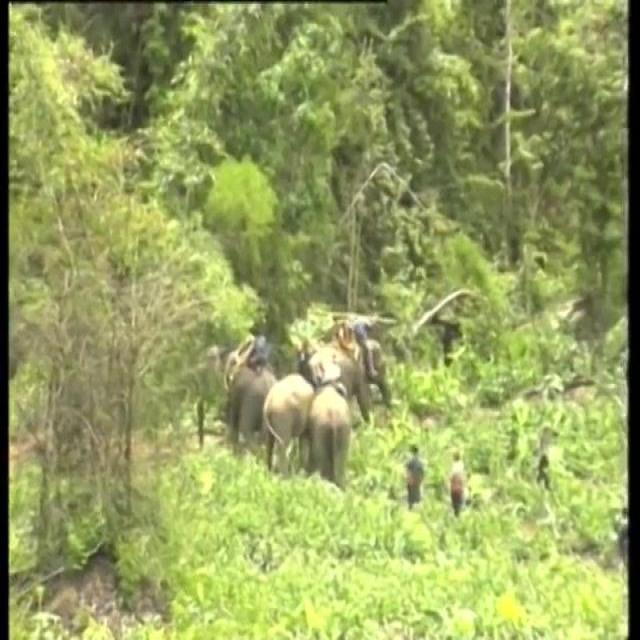Elephant: (321, 341, 393, 409), (265, 383, 314, 453), (225, 357, 270, 432), (311, 391, 352, 472)
